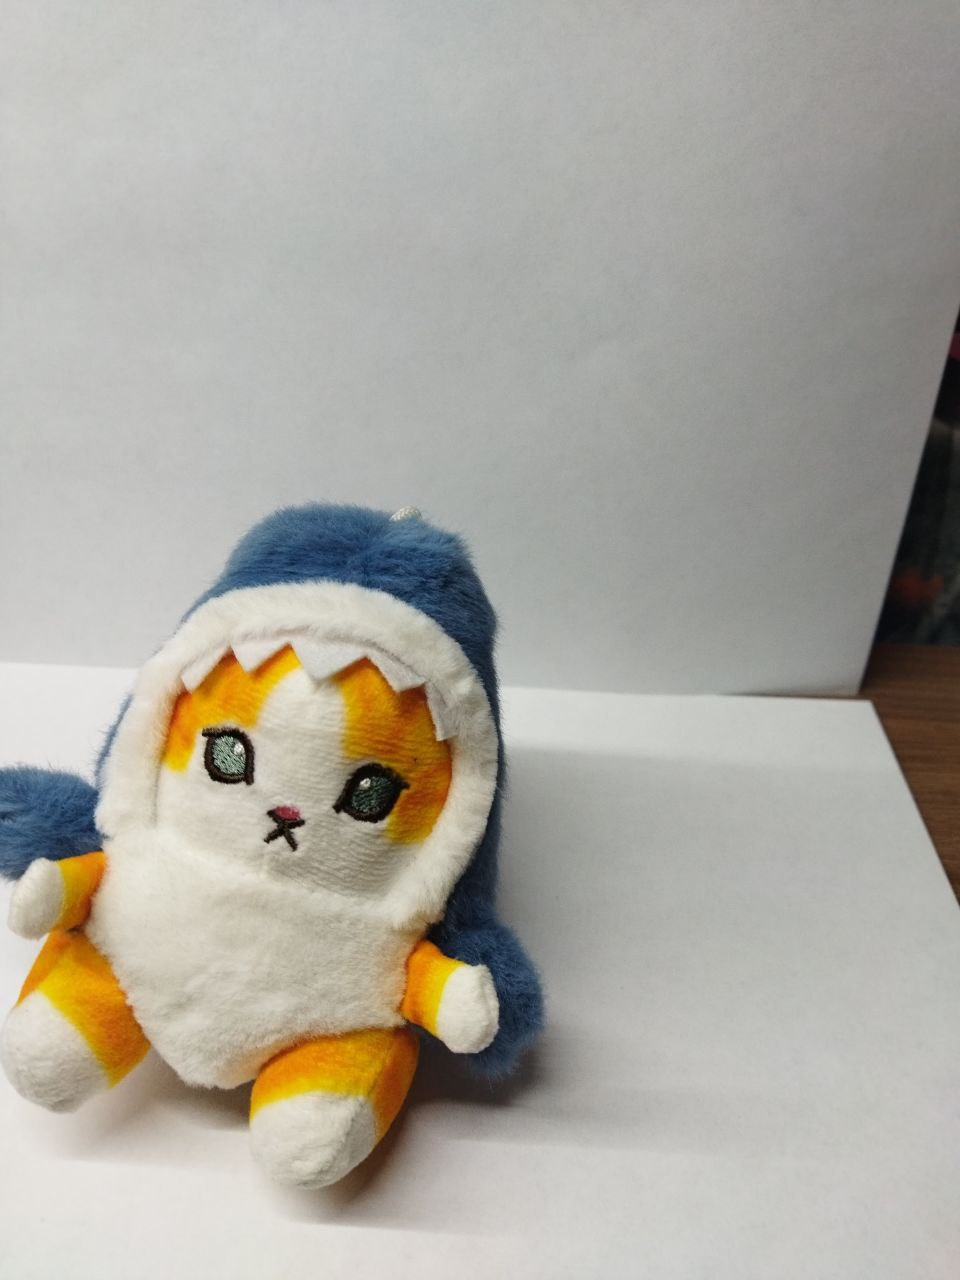Snark Cat: (1, 507, 527, 1193)
